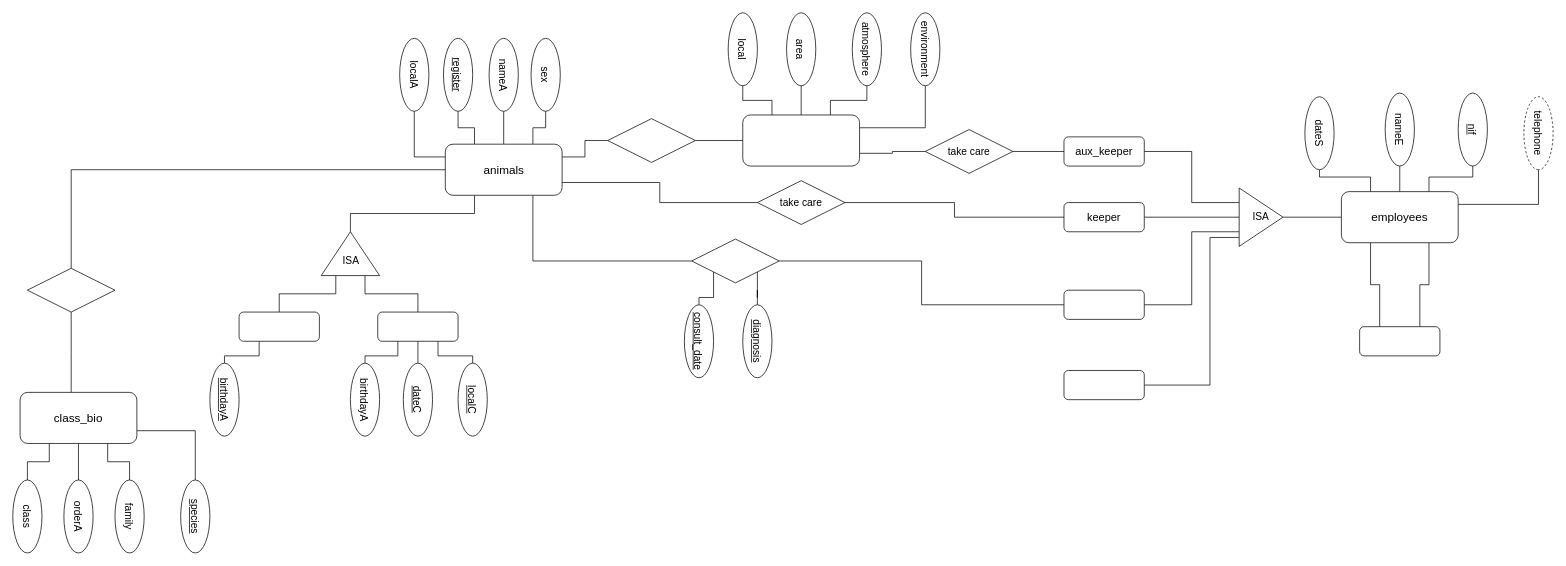
This 1566x566 diagram has some shape labels left out. Each missing label, with the centre of its shape:
"admin" goes at point (1103, 385).
"belongs to" goes at point (71, 290).
"captivity" goes at point (278, 326).
"capture" goes at point (417, 326).
"consultations" goes at point (735, 260).
"habitat" goes at point (801, 140).
"lives" goes at point (651, 140).
"responsible" goes at point (1399, 341).
"veterinary" goes at point (1103, 304).
